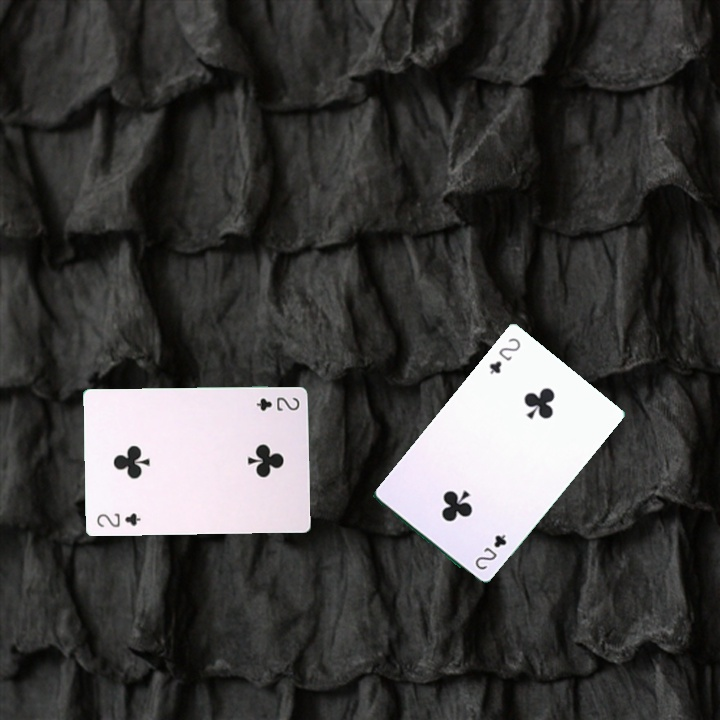2c: (485, 333, 523, 377), (471, 530, 509, 572), (93, 509, 143, 530), (252, 393, 302, 413)
